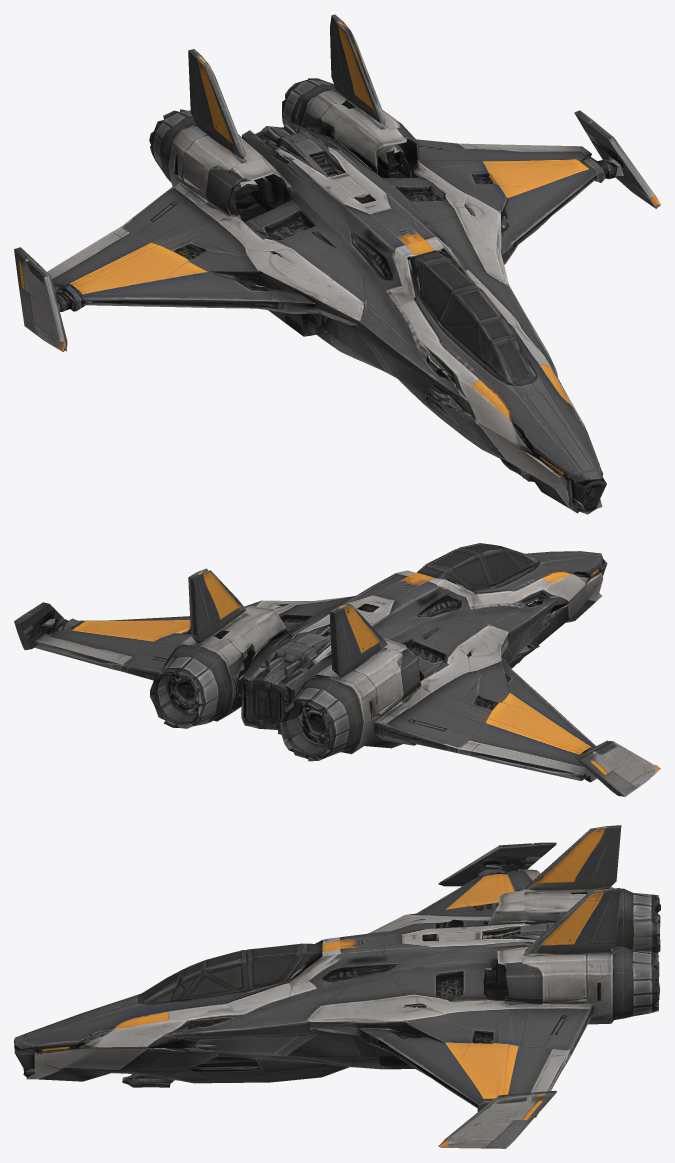
The model's file is interceptor-high.glb.
3 renders of one model, top to bottom at view 1: azimuth 30°, elevation 25°; view 2: azimuth 150°, elevation 25°; view 3: azimuth 270°, elevation 25°, orthographic. The views are drawn at different scales.
Parts seen in each view (by area): view 1: Low; view 2: Low; view 3: Low.
Part boxes in pixels (x1,y1,x2,y2): Low: (14, 14, 660, 514); Low: (14, 543, 660, 796); Low: (14, 825, 660, 1148).
Size of the model in its own units: 1.68 by 0.6729 by 1.72.
1 material, 1 textured.
